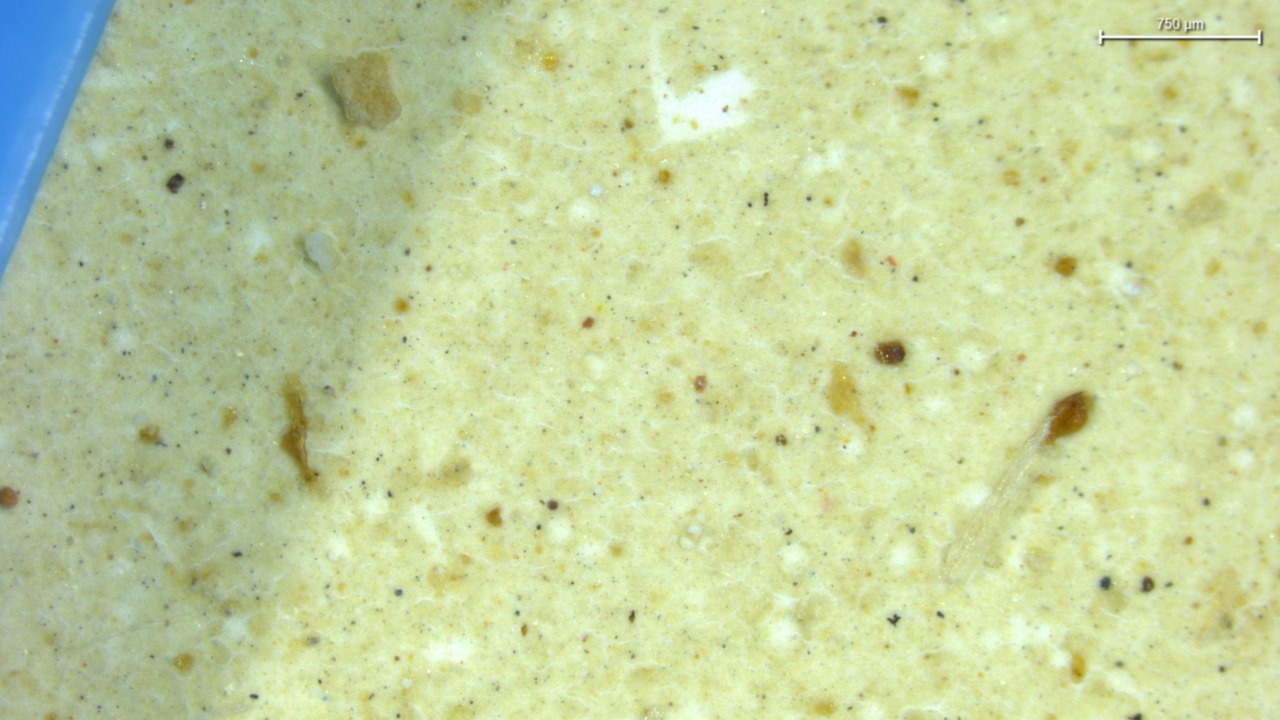microplastic_fragment: (333, 50, 403, 131), (304, 235, 335, 270)
